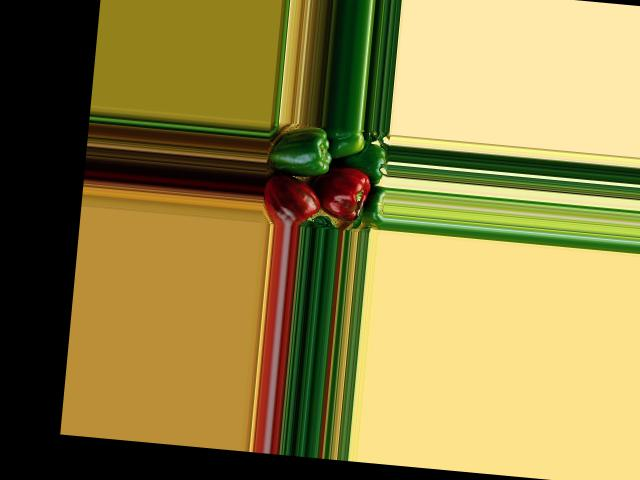bell_pepper: (261, 175, 322, 226)
